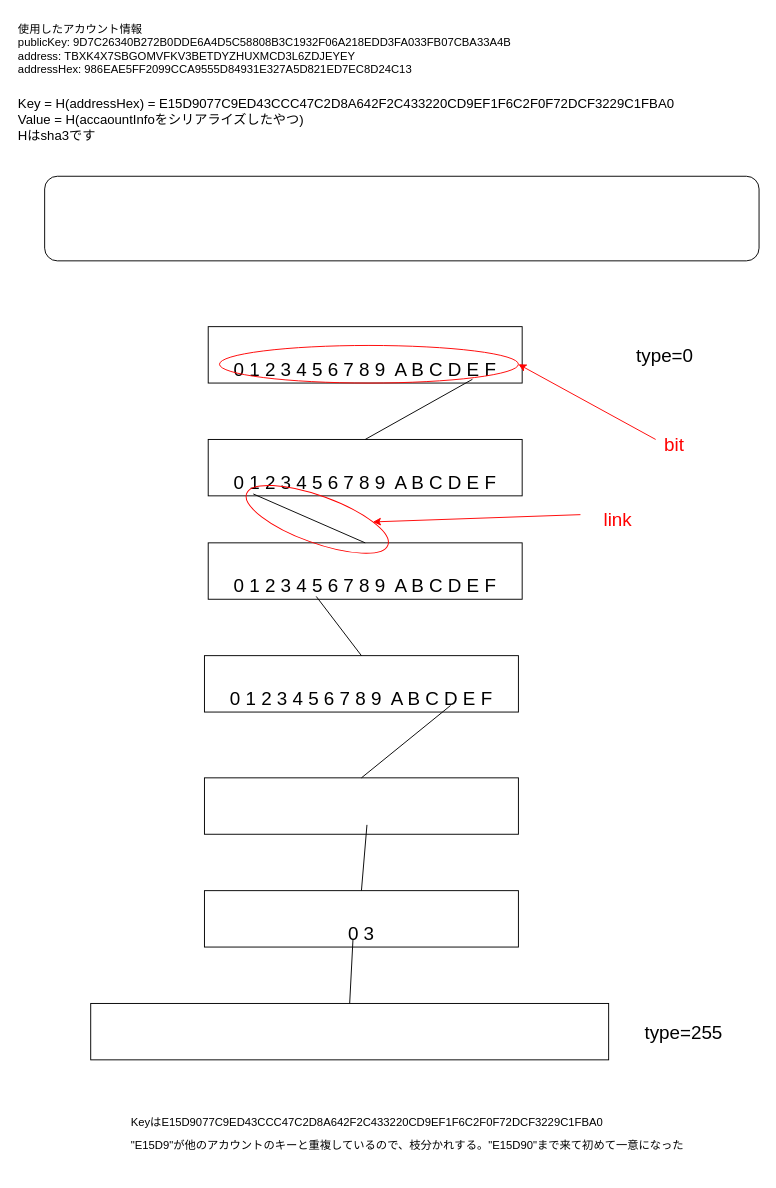
Image size: 776x1188. Some labels were removed from this diagram. Each missing label, with the box of its shape:
0 1 2 4 5 7 8 9 A B C D E F: (204, 777, 518, 834)
77C9ED43CCC47C2D8A642F2C433220CD9EF1F6C2F0F72DCF3229C1FBA0: (90, 1003, 609, 1060)
ツリーから Key=E15D9077C9ED43CCC47C2D8A642F2C433220CD9EF1F6C2F0F72DCF3229C1FBA0 を抜粋: (44, 175, 759, 261)
